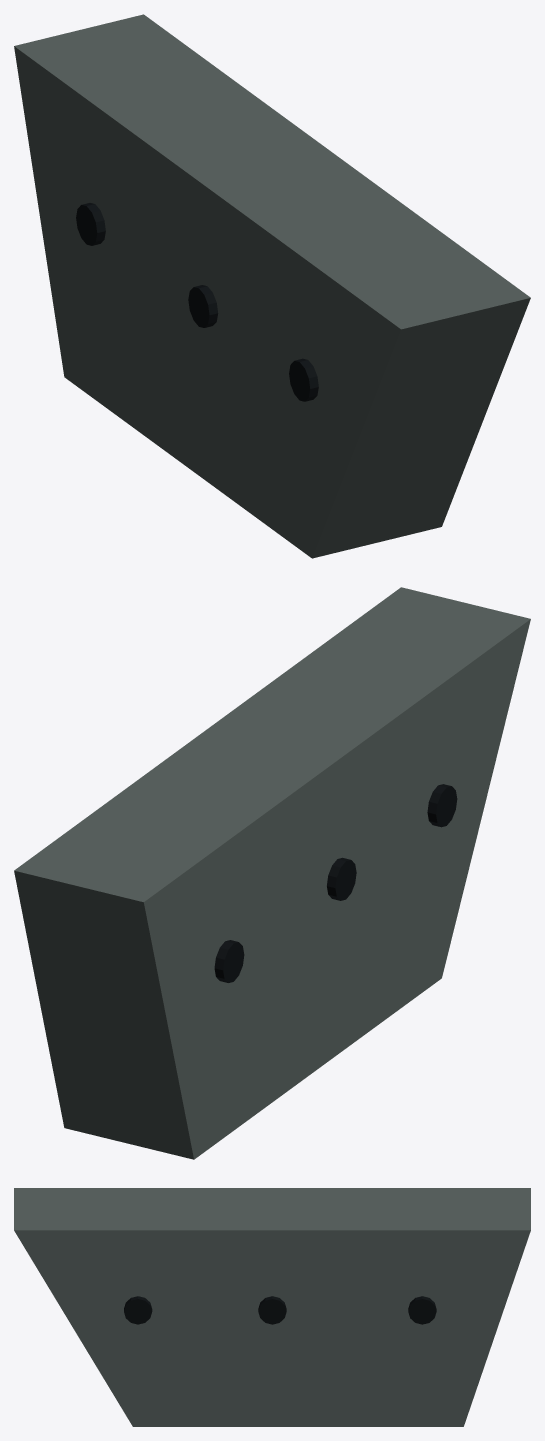
Rendered from PylonLight__Pylon.obj.
3 views of the same model, one above another, from view 1: azimuth 30°, elevation 25°; view 2: azimuth 150°, elevation 25°; view 3: azimuth 270°, elevation 25° (orthographic). The views are drawn at different scales.
Parts seen in each view (by area): view 1: Tapered_pylon_casting, Pylon_fitting_bolt.001, Pylon_fitting_bolt.002, Pylon_fitting_bolt; view 2: Tapered_pylon_casting, Pylon_fitting_bolt, Pylon_fitting_bolt.002, Pylon_fitting_bolt.001; view 3: Tapered_pylon_casting, Pylon_fitting_bolt.004, Pylon_fitting_bolt.003, Pylon_fitting_bolt.005.
Boxes of the visible parts, bbox=[...] form: Tapered_pylon_casting: bbox=[14, 14, 530, 558]; Pylon_fitting_bolt.001: bbox=[188, 285, 218, 327]; Pylon_fitting_bolt.002: bbox=[289, 358, 318, 401]; Pylon_fitting_bolt: bbox=[76, 203, 105, 245]; Tapered_pylon_casting: bbox=[14, 587, 530, 1159]; Pylon_fitting_bolt: bbox=[214, 940, 244, 982]; Pylon_fitting_bolt.002: bbox=[427, 784, 457, 827]; Pylon_fitting_bolt.001: bbox=[327, 857, 356, 900]; Tapered_pylon_casting: bbox=[14, 1188, 530, 1426]; Pylon_fitting_bolt.004: bbox=[258, 1296, 286, 1324]; Pylon_fitting_bolt.003: bbox=[408, 1296, 436, 1324]; Pylon_fitting_bolt.005: bbox=[124, 1296, 152, 1324].
Bounding box in the file's own units: 0.136 × 0.26 × 0.62.
